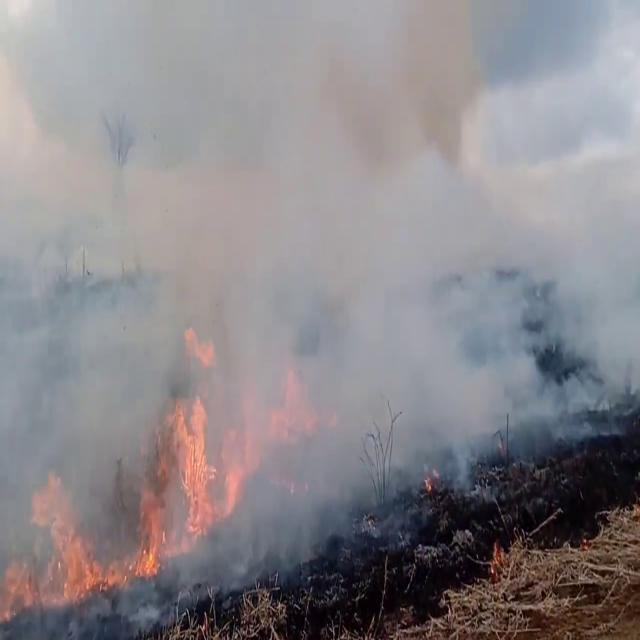Fire: (0, 472, 159, 630), (160, 336, 222, 547)
Smoke: (1, 2, 636, 571)
